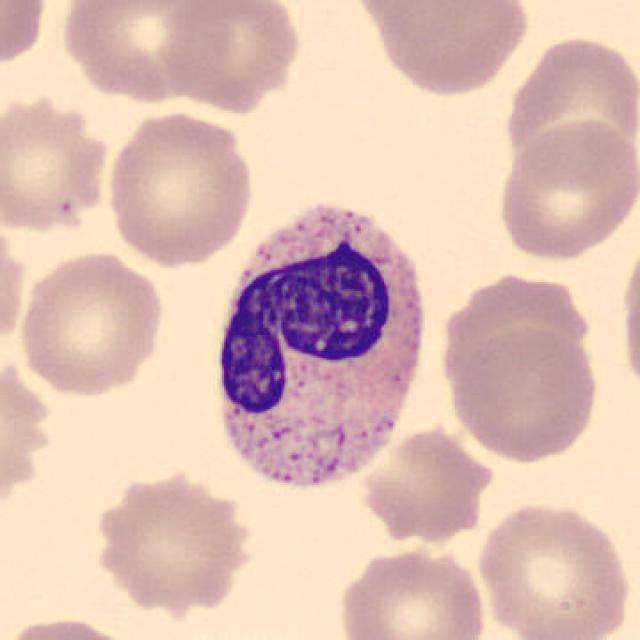Neutrophil: (202, 201, 434, 506)
RBC: (87, 464, 261, 614), (101, 108, 258, 268), (14, 247, 169, 398), (448, 323, 610, 466), (473, 497, 635, 638), (492, 116, 638, 263), (500, 30, 638, 182), (55, 0, 233, 106), (439, 271, 586, 397), (156, 0, 306, 115), (361, 0, 535, 99), (0, 88, 114, 236), (359, 423, 495, 543), (334, 543, 489, 640), (0, 365, 53, 502), (2, 612, 148, 640), (617, 226, 640, 397), (0, 213, 28, 352), (0, 0, 52, 74)
